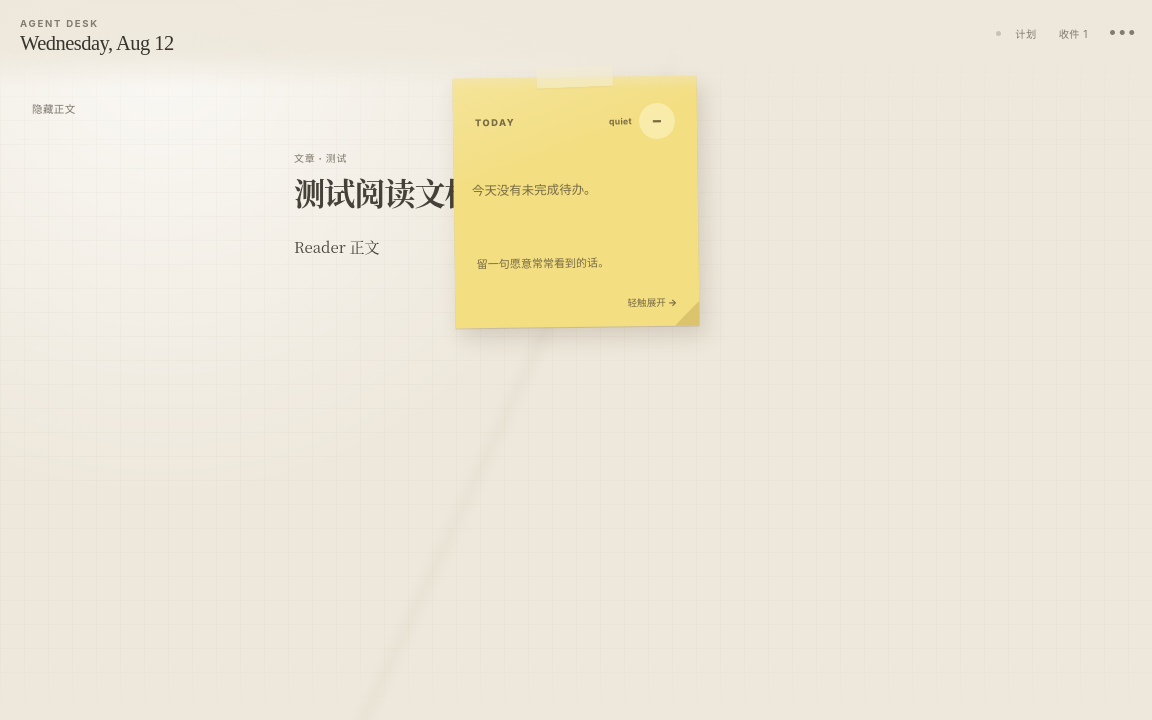
Scenario: StickyHome M1-B4 › keeps Inbox unread and active when opening a Delivery fails
The image size is (1152, 720).
What coordinates should you click on to do the following:
click the button with aria-label "打开收件箱，1 件未打开"
I would click on:
 (1073, 33)
Its box is [1051,20,1096,46].
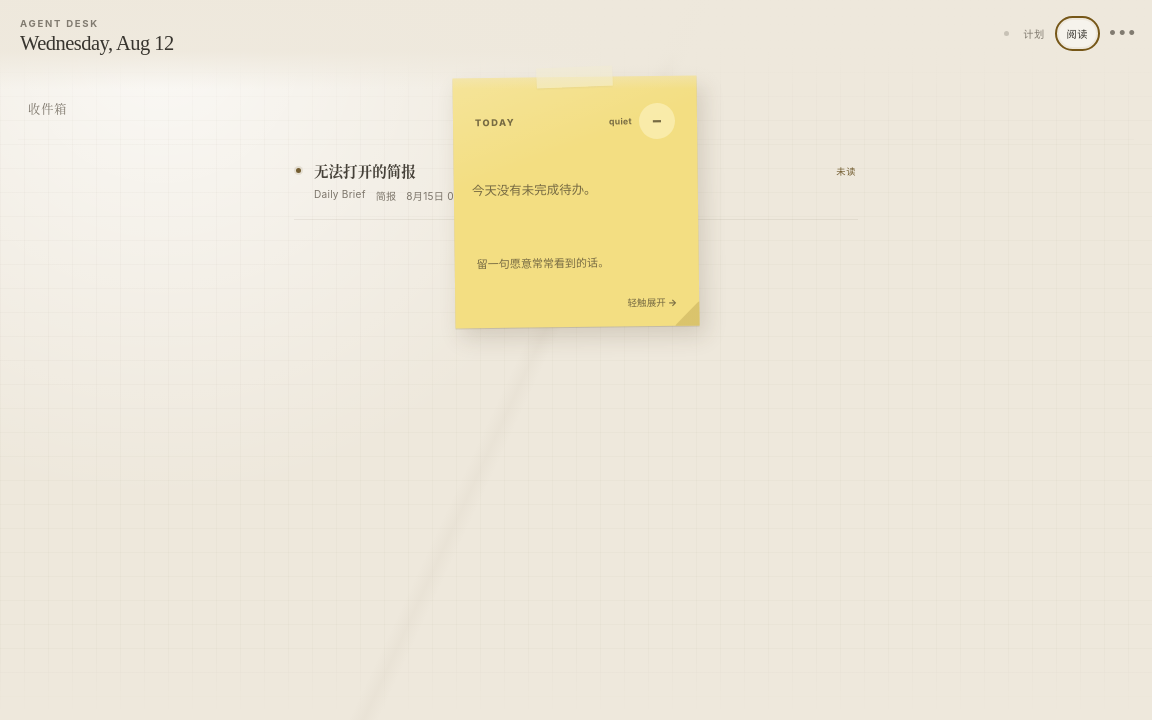
What coordinates should you click on to do the following:
click the button with aria-label "未读，无法打开的简报"
I would click on:
 (365, 170)
Its box is [294,144,858,220].
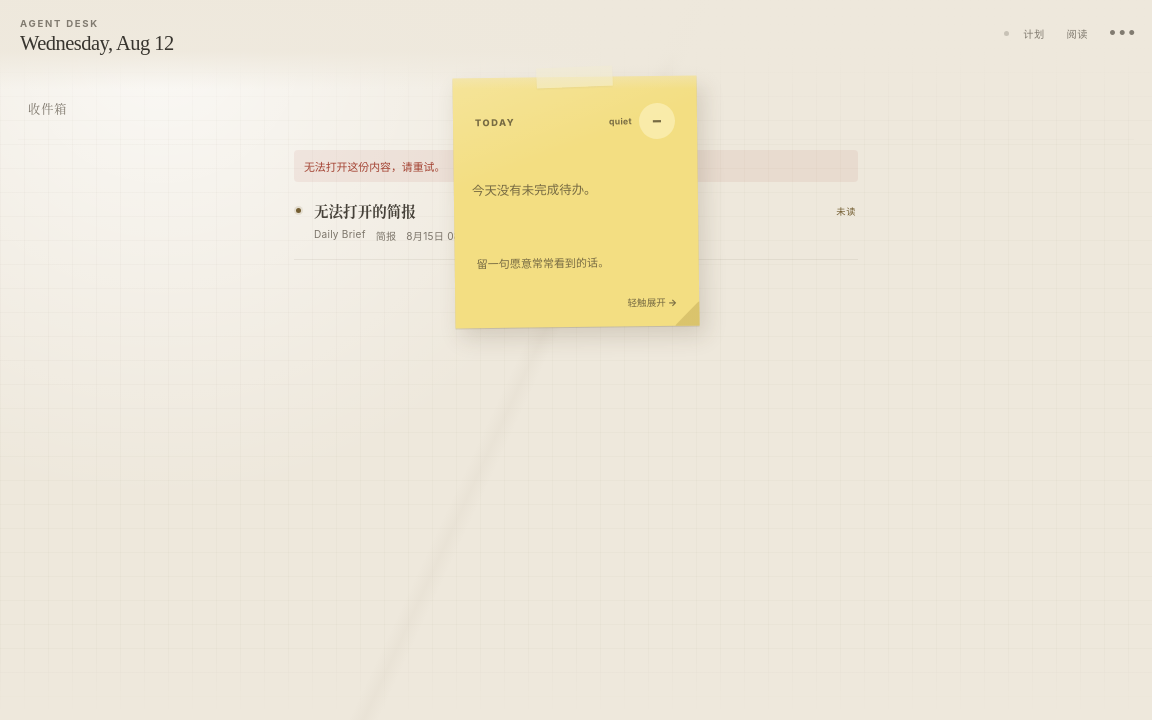
Expected: the element named "Inbox scroll viewport" is shown, [294,150,858,260]
Expected: the button with aria-label "返回阅读" reads "阅读", [1059,20,1096,46]
Expected: the message reads "无法打开这份内容，请重试。", [304,160,445,174]
